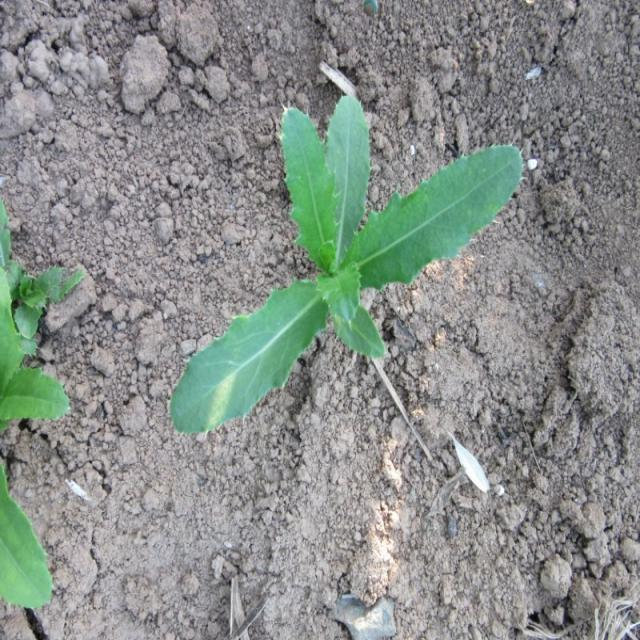cs: (172, 92, 523, 436)
